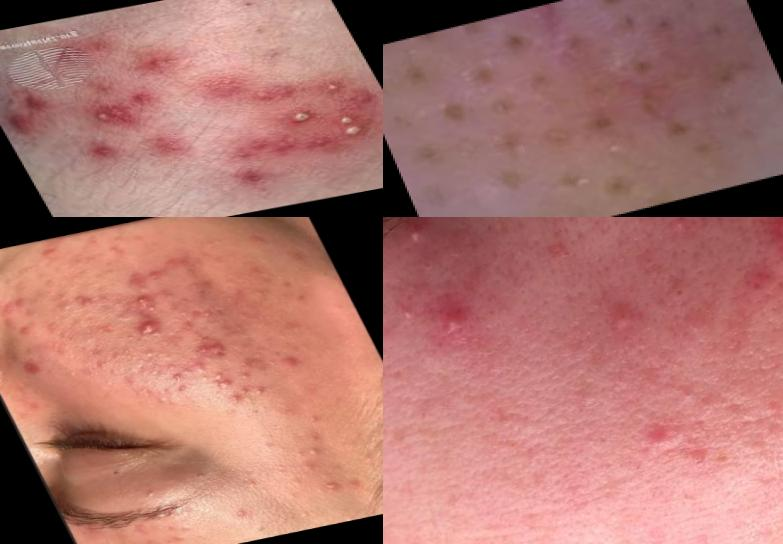blackhead: (552, 87, 662, 160), (426, 80, 480, 134), (647, 1, 697, 43)
folliculitis: (282, 102, 324, 129), (313, 75, 352, 99), (339, 122, 373, 142), (331, 112, 364, 130)
papular: (418, 276, 499, 355), (1, 81, 72, 144), (596, 274, 659, 342), (222, 155, 294, 200), (125, 129, 192, 169), (656, 264, 707, 313), (730, 249, 783, 293), (657, 373, 704, 420), (141, 45, 194, 77), (756, 218, 783, 269), (118, 271, 163, 300), (247, 84, 303, 104), (16, 357, 53, 380), (66, 292, 102, 315), (279, 352, 311, 370), (233, 357, 265, 375), (1, 295, 23, 317), (11, 294, 39, 311), (195, 306, 223, 323), (14, 324, 40, 340), (38, 245, 63, 261), (144, 268, 168, 283), (178, 321, 200, 334)
purulent: (387, 286, 422, 335), (395, 218, 440, 254), (314, 475, 356, 500), (202, 368, 237, 394), (84, 105, 119, 129), (124, 291, 158, 312), (139, 302, 167, 317), (171, 381, 196, 396), (166, 370, 190, 385), (226, 394, 249, 407), (234, 385, 254, 397), (252, 385, 270, 397), (238, 370, 256, 381)
sebo-crystan-conglo: (192, 336, 245, 364), (127, 317, 175, 341)
whitehead: (285, 442, 338, 476), (48, 287, 85, 321), (157, 518, 202, 544), (126, 481, 165, 507), (227, 503, 263, 528), (136, 345, 167, 364), (183, 357, 213, 375), (13, 263, 43, 277), (105, 349, 130, 365), (119, 345, 139, 360), (104, 246, 127, 259), (288, 250, 309, 264), (1, 274, 20, 287), (102, 267, 119, 278), (43, 278, 60, 289)
